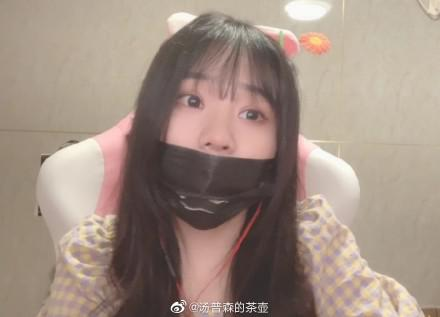WRONG: (152, 72, 275, 226)
